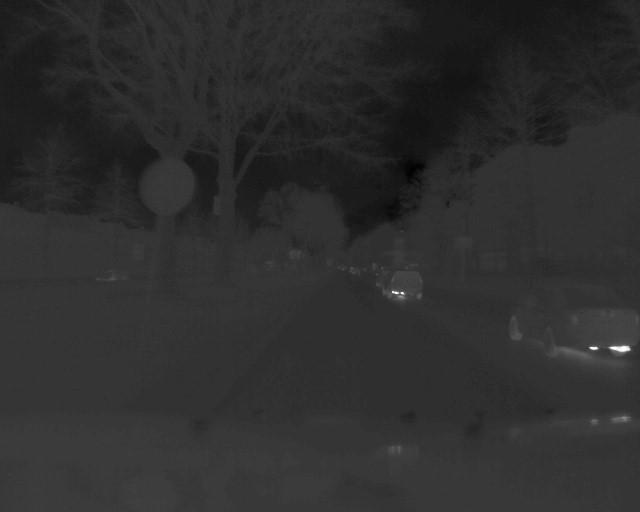car: (506, 282, 640, 360), (380, 267, 428, 301)
